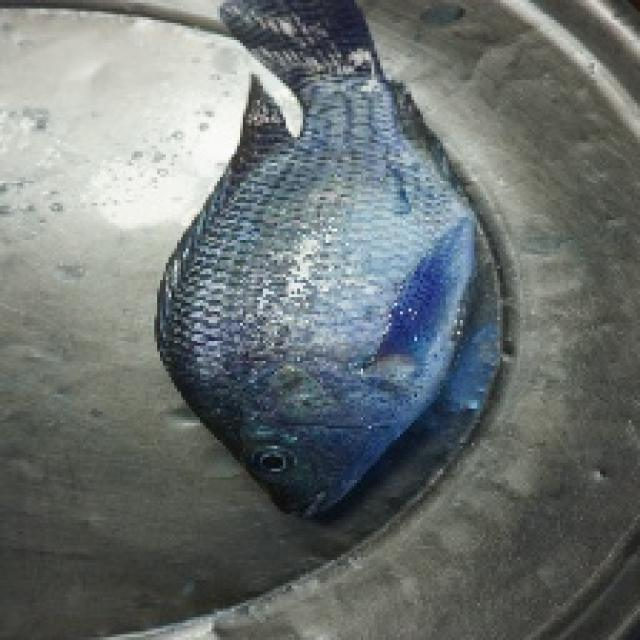Fresh: (142, 65, 486, 533)
